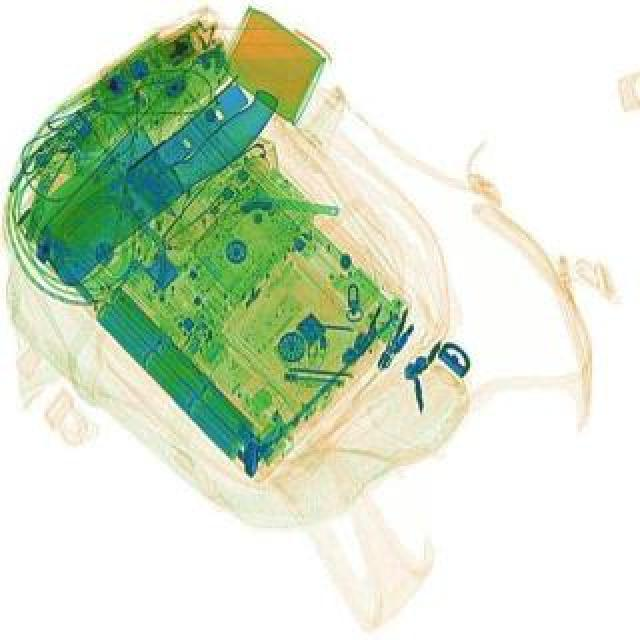knife: (6, 46, 290, 300)
